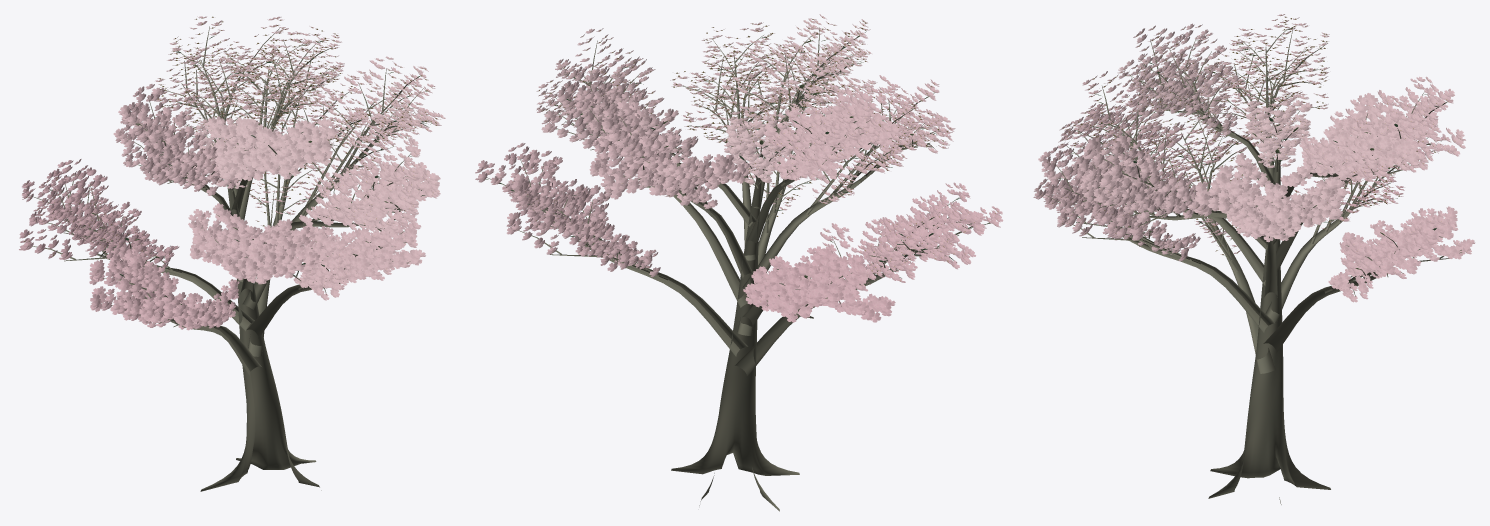
The picture shows the model from 3 angles, left to right: view 1: azimuth 30°, elevation 25°; view 2: azimuth 150°, elevation 25°; view 3: azimuth 270°, elevation 25°; orthographic projection. The views are drawn at different scales.
Parts seen in each view (by area): view 1: leaves, branches; view 2: leaves, branches; view 3: leaves, branches.
Boxes of the visible parts, x1,y1,x2,y2 form: leaves: [19, 16, 445, 330]; branches: [27, 26, 429, 491]; leaves: [475, 14, 1003, 322]; branches: [487, 27, 990, 511]; leaves: [1033, 14, 1475, 302]; branches: [1045, 27, 1459, 504].
Bounding box in the file's own units: 8.21 × 8.78 × 8.13.
